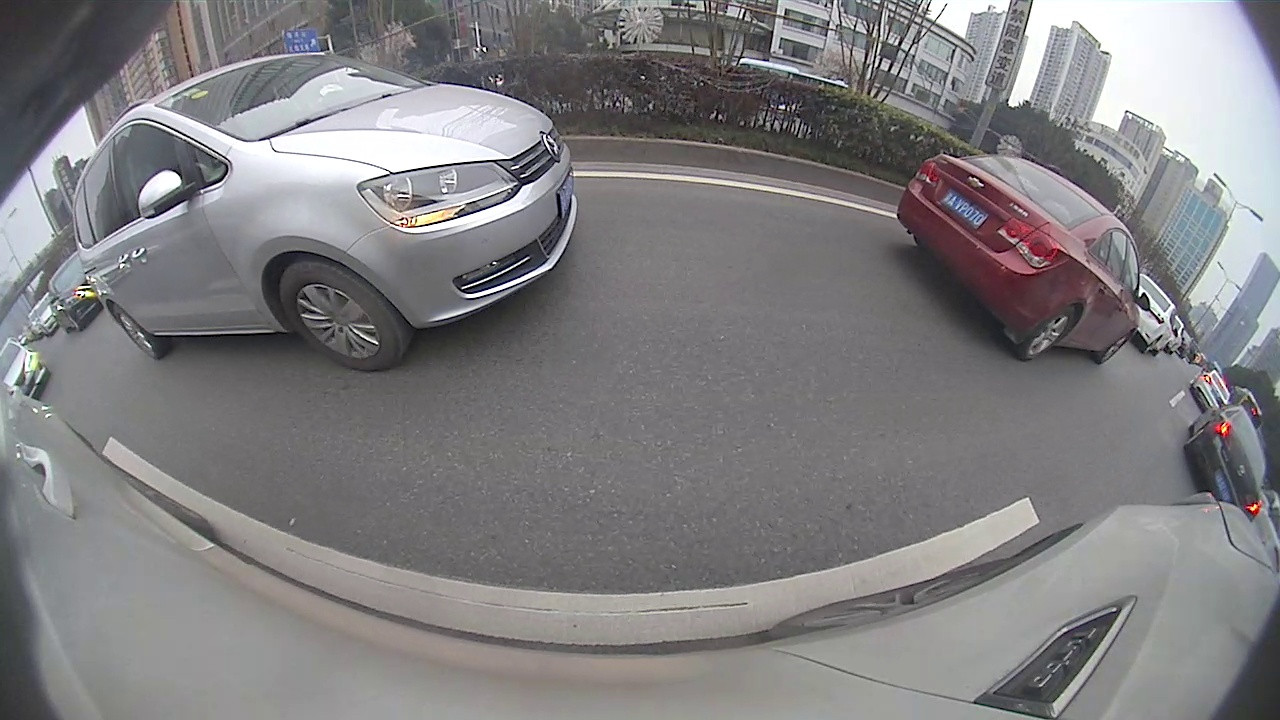car: (70, 52, 578, 372), (897, 154, 1153, 367), (1182, 396, 1268, 511), (46, 250, 101, 331), (1189, 367, 1233, 412)
front: (278, 255, 405, 370)
rear: (1018, 309, 1079, 364), (110, 302, 161, 361)
